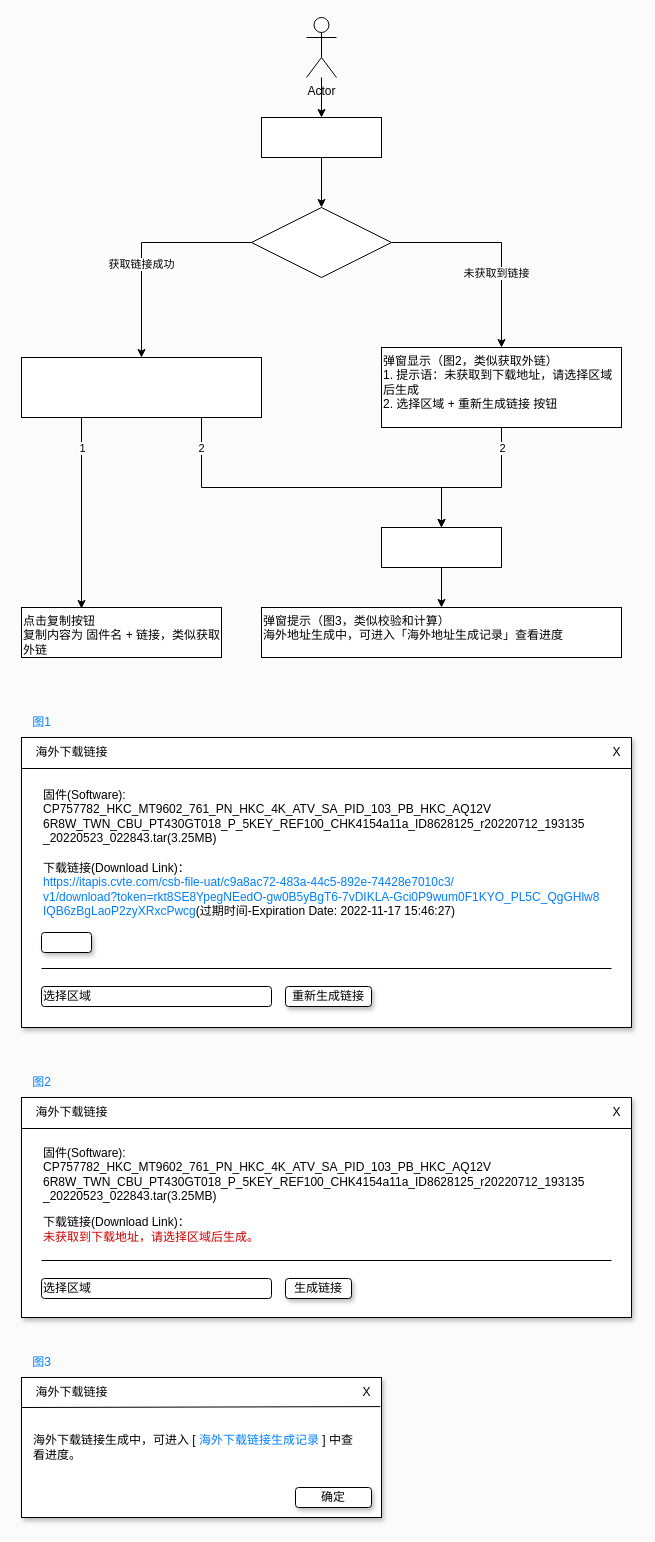
This 655x1542 diagram has some shape labels left out. The centre of each missing label's shape, as x and y in pixels:
"复制" goes at (x=67, y=944).
"弹窗显示（图1，类似获取外链） 1.下载地址 + 复制按钮 2. 选择区域 + 重新生成链接 按钮" goes at (x=141, y=387).
"点击「获取海外链接」按钮" goes at (x=321, y=137).
"点击生成链接 按钮" goes at (x=441, y=547).
"调用接口获 取海外链接" goes at (x=321, y=242).
